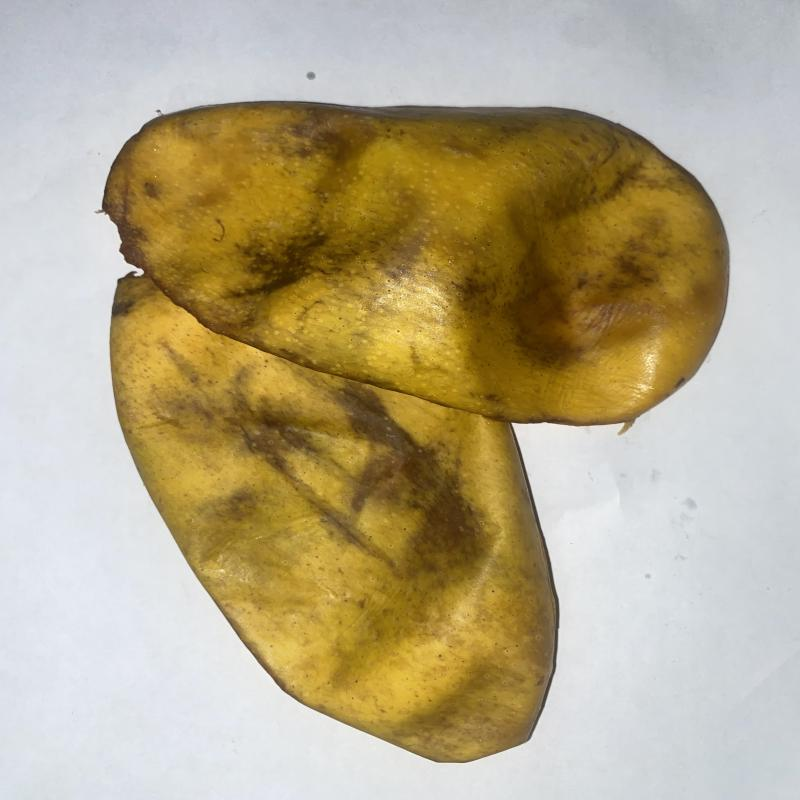fruit peels: (109, 273, 561, 767), (102, 102, 731, 427)
